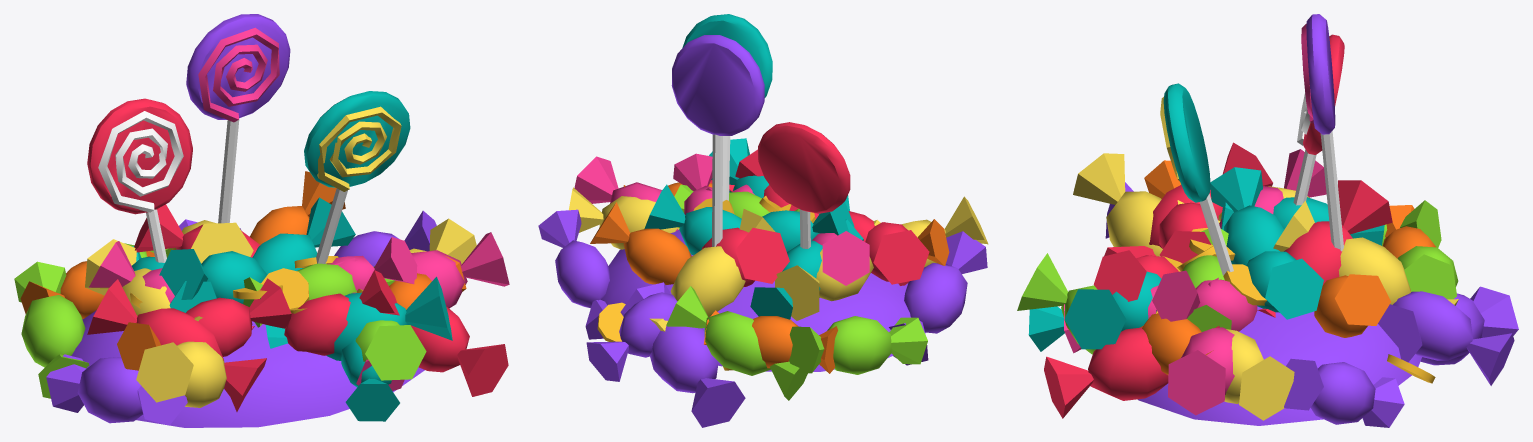
File: candy_pile.fbx
The picture shows the model from 3 angles, left to right: view 1: azimuth 30°, elevation 25°; view 2: azimuth 150°, elevation 25°; view 3: azimuth 270°, elevation 25°; orthographic projection. The views are drawn at different scales.
Visible parts, largest first — view 1: candy_pile; view 2: candy_pile; view 3: candy_pile.
Part boxes in pixels (x1,y1,x2,y2): candy_pile: (14, 14, 509, 427); candy_pile: (538, 14, 988, 427); candy_pile: (1017, 14, 1518, 427).
Size of the model in its own units: 4.21 by 3.35 by 4.13.
1 material, 1 textured.
